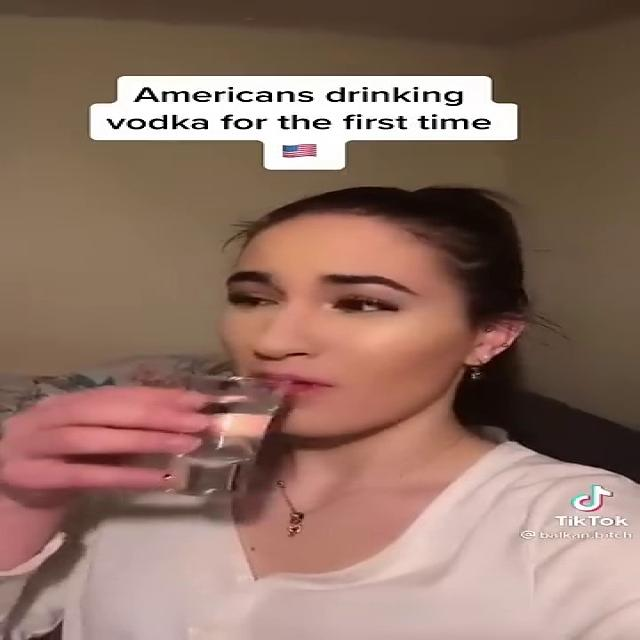Cup: (160, 375, 287, 497)
Hand: (0, 367, 215, 505)
Mouth: (247, 366, 344, 396)
